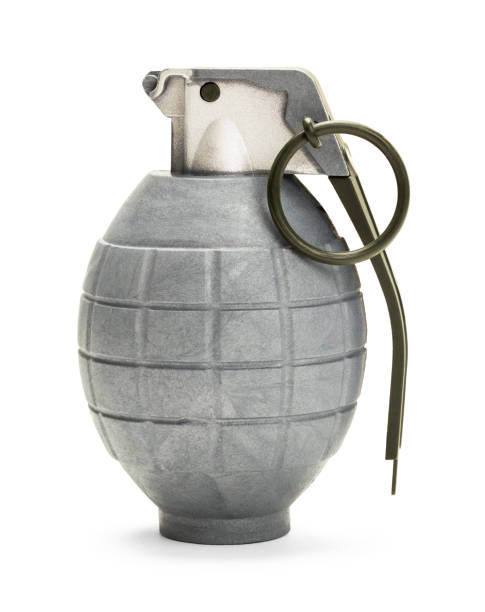e1: (77, 68, 412, 548)
